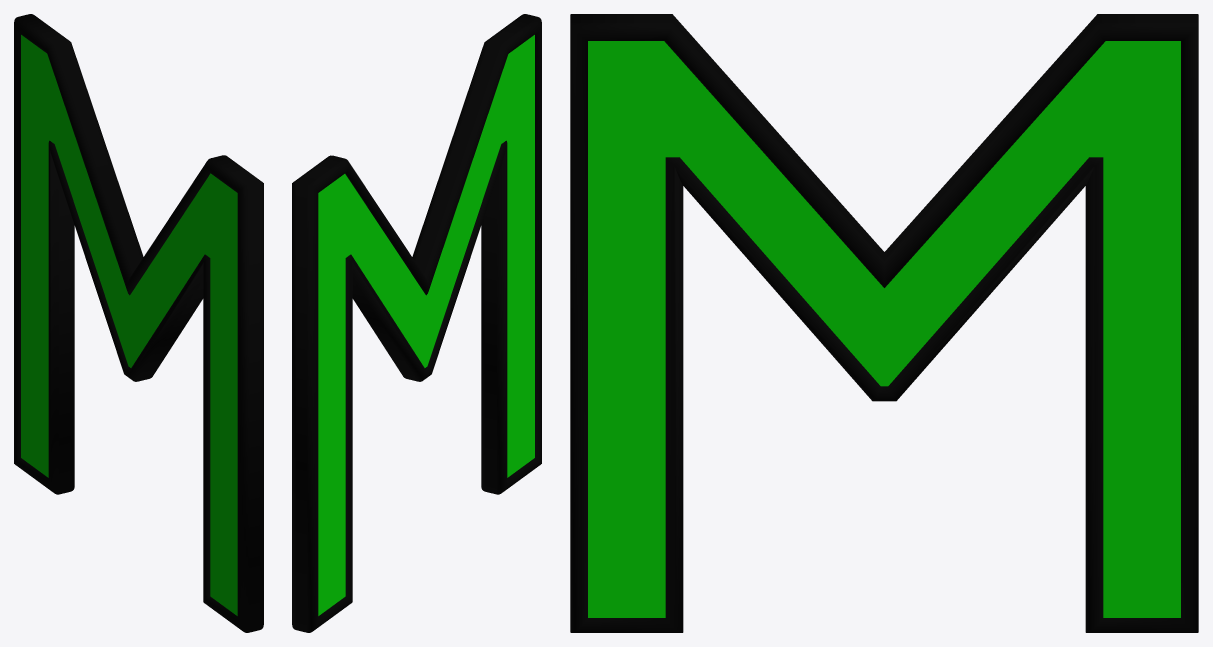
The model's file is mLetter.fbx.
The picture shows the model from 3 angles, left to right: view 1: azimuth 30°, elevation 25°; view 2: azimuth 150°, elevation 25°; view 3: azimuth 270°, elevation 25°; orthographic projection. The views are drawn at different scales.
Visible parts, largest first — view 1: M; view 2: M; view 3: M.
Boxes of the visible parts, x1,y1,x2,y2 form: M: (14, 14, 263, 632); M: (292, 14, 541, 632); M: (570, 14, 1198, 632).
Size of the model in its own units: 0.08 by 1.4 by 1.31.
